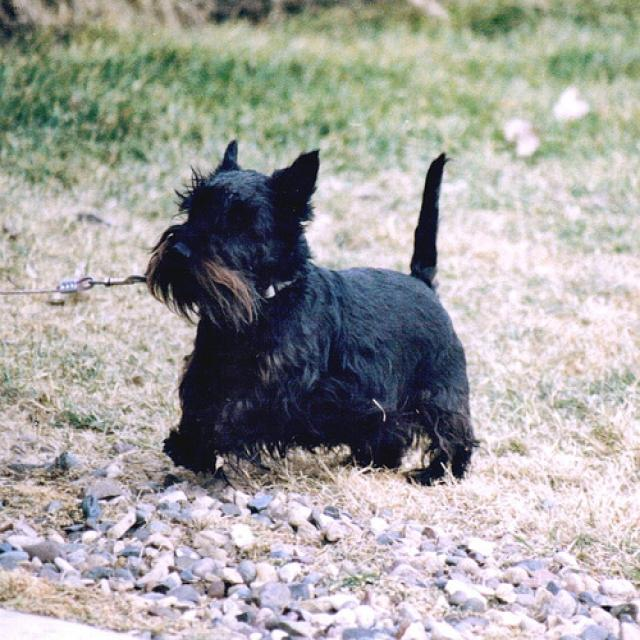dog-scottish_terrier: (133, 126, 489, 493)
